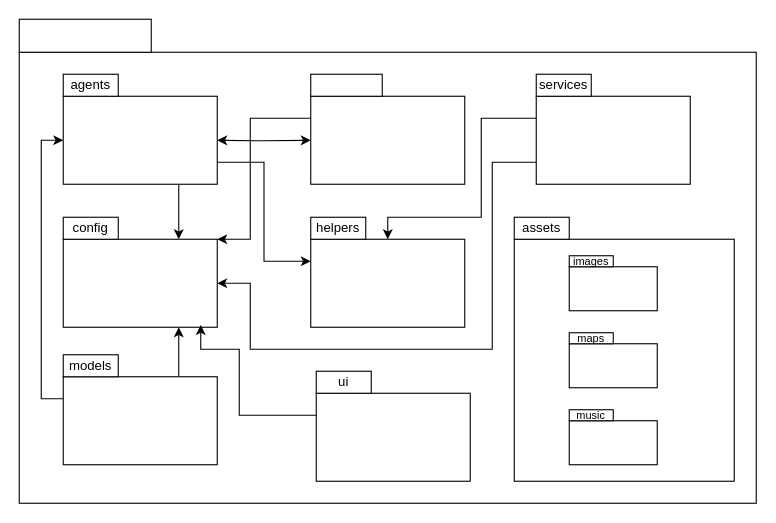
The diagram is 776 pixels wide and 523 high, and some of its shapes have lost their labels. The centre of each missing label's shape, as x and y in pixels:
"algorithms" belongs at point 346,84.
"project" belongs at point 84,35.
